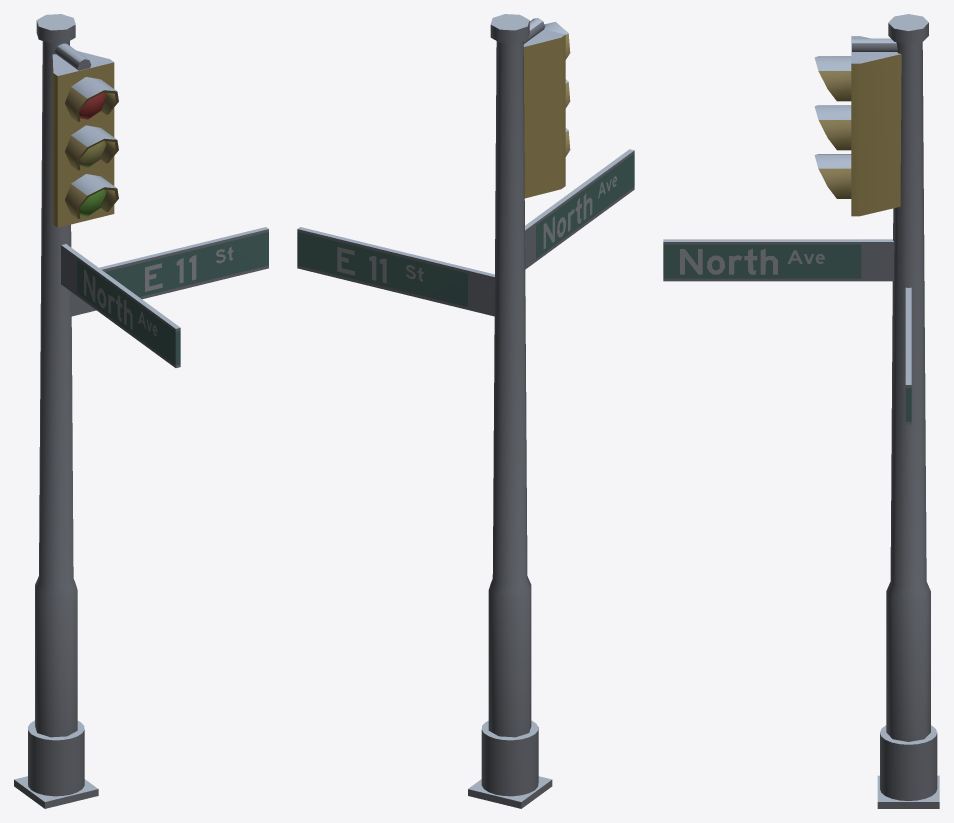
The model's file is traffic_light.glb.
The picture shows the model from 3 angles, left to right: view 1: azimuth 30°, elevation 25°; view 2: azimuth 150°, elevation 25°; view 3: azimuth 270°, elevation 25°; orthographic projection.
Visible parts, largest first — view 1: Prop; view 2: Prop; view 3: Prop.
Boxes of the visible parts, x1,y1,x2,y2 form: Prop: (14,14,268,808); Prop: (297,14,634,808); Prop: (663,14,939,808).
Bounding box in the file's own units: 1.51 × 4.66 × 1.51.
